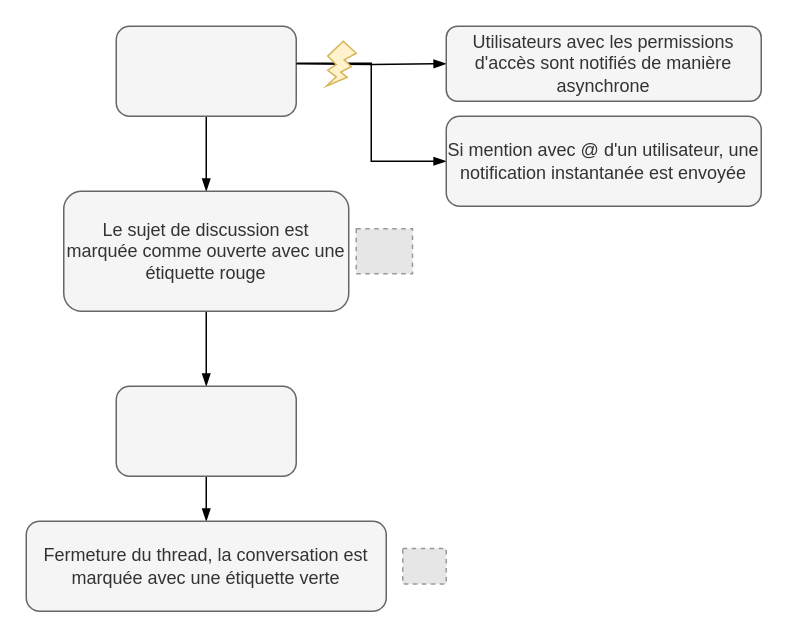
This 788x638 diagram has some shape labels left out. Grey dashed boxes stand in for pictures. Here are the shapes that lost their labels. From the top down, the centre of each, then its label:
At (205,70): "Envoi du premier message".
At (205,430): "Suite de la conversation ...".
